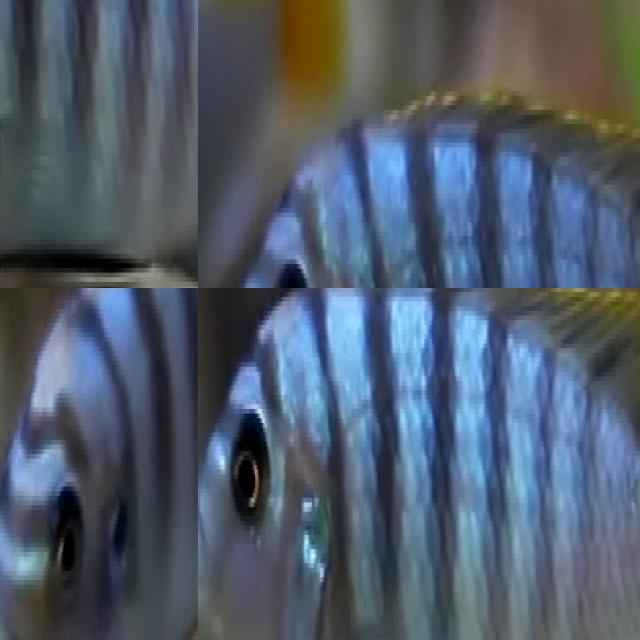fish: (198, 288, 640, 640), (198, 0, 640, 288), (0, 0, 198, 288)
